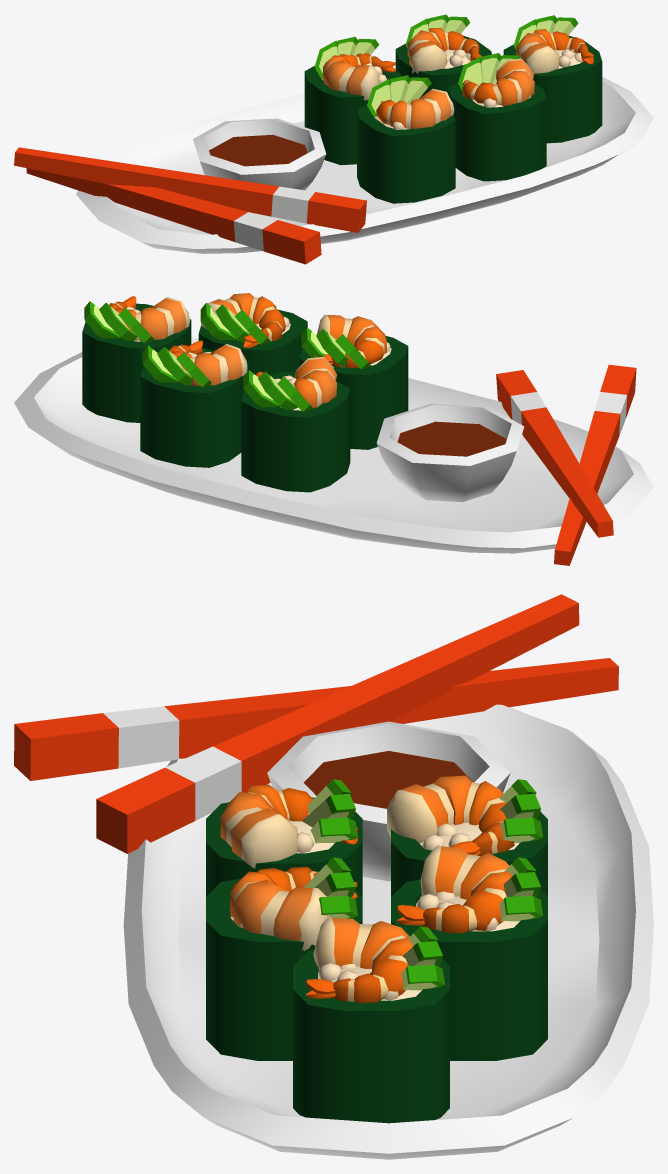
Rendered from Sushi_02.fbx.
The picture shows the model from 3 angles, top to bottom: view 1: azimuth 30°, elevation 25°; view 2: azimuth 150°, elevation 25°; view 3: azimuth 270°, elevation 25°; orthographic projection. The views are drawn at different scales.
Parts seen in each view (by area): view 1: Sushi_02, Sushi_02_Chopstick, Sushi_02_Shrimp, Sushi_02_Soya; view 2: Sushi_02, Sushi_02_Soya, Sushi_02_Chopstick, Sushi_02_Shrimp; view 3: Sushi_02, Sushi_02_Chopstick, Sushi_02_Shrimp, Sushi_02_Soya.
Boxes of the visible parts, left/top/right/bottom form: Sushi_02: left=76, top=14, right=653, bottom=253; Sushi_02_Chopstick: left=14, top=147, right=366, bottom=264; Sushi_02_Shrimp: left=322, top=27, right=593, bottom=129; Sushi_02_Soya: left=193, top=118, right=326, bottom=190; Sushi_02: left=14, top=301, right=653, bottom=553; Sushi_02_Soya: left=376, top=403, right=524, bottom=502; Sushi_02_Chopstick: left=496, top=364, right=636, bottom=565; Sushi_02_Shrimp: left=109, top=293, right=387, bottom=408; Sushi_02: left=123, top=704, right=653, bottom=1159; Sushi_02_Chopstick: left=14, top=594, right=618, bottom=853; Sushi_02_Shrimp: left=220, top=775, right=514, bottom=1003; Sushi_02_Soya: left=267, top=721, right=510, bottom=881.
Size of the model in its own units: 106 by 19.34 by 58.77.
